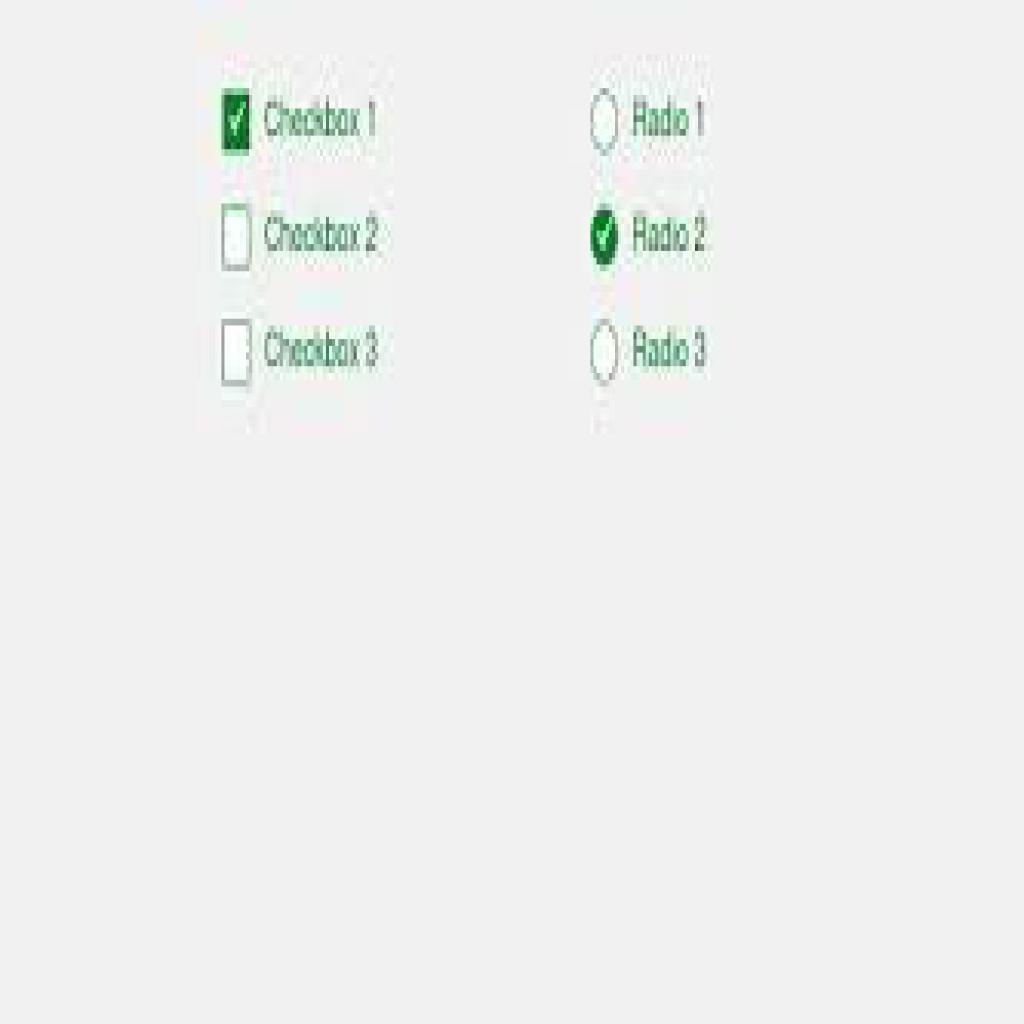checkbox: (218, 196, 258, 275), (223, 83, 255, 167), (221, 317, 255, 394)
radio: (586, 199, 625, 276), (589, 312, 627, 390), (587, 88, 622, 160)
